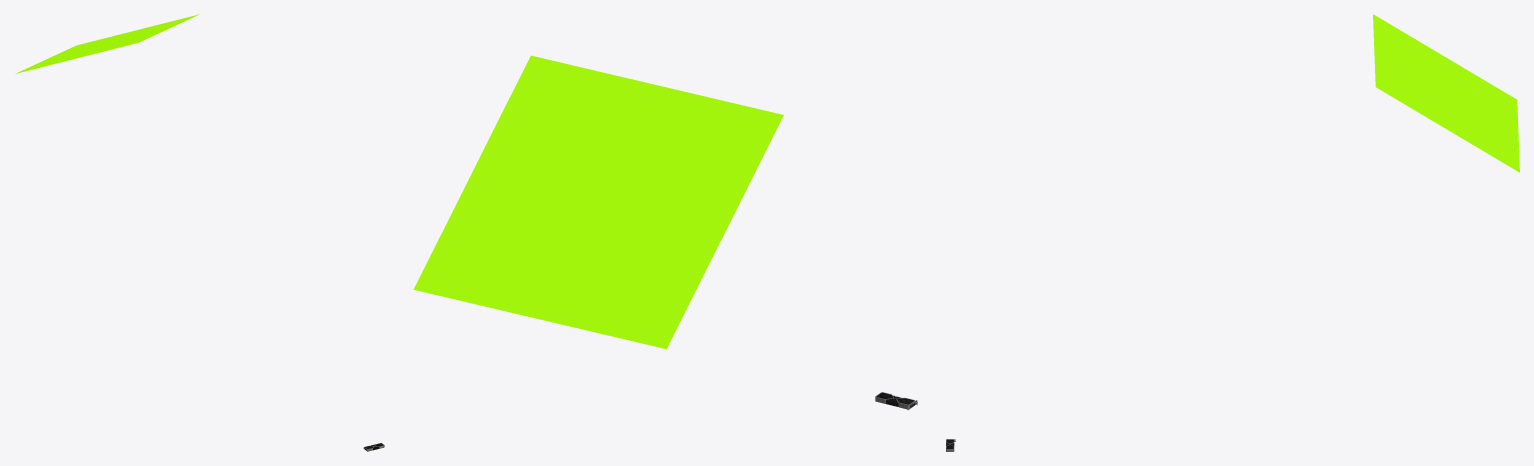
The model's file is gpu-rtx3080.glb.
3 renders of one model, left to right at view 1: azimuth 30°, elevation 25°; view 2: azimuth 150°, elevation 25°; view 3: azimuth 270°, elevation 25°, orthographic. The views are drawn at different scales.
Parts seen in each view (by area): view 1: Plane; view 2: Plane; view 3: Plane.
Part boxes in pixels (bbox=[...]): Plane: bbox=[15, 14, 199, 73]; Plane: bbox=[413, 55, 783, 348]; Plane: bbox=[1373, 14, 1519, 172].
Bounding box in the file's own units: 2.1 × 4.62 × 6.63.
